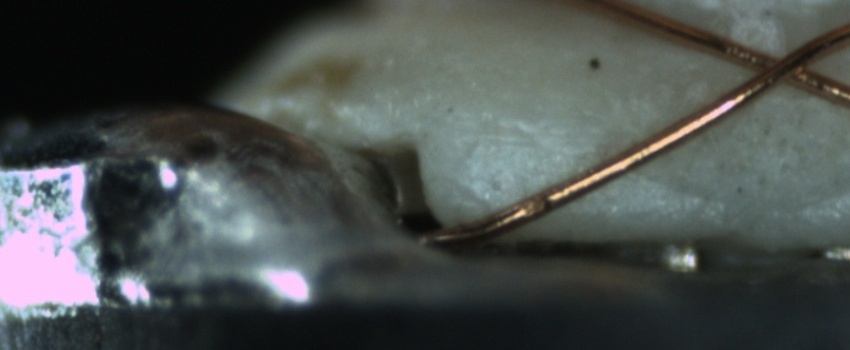CL: (734, 35, 828, 94)
DL: (453, 107, 620, 171)
